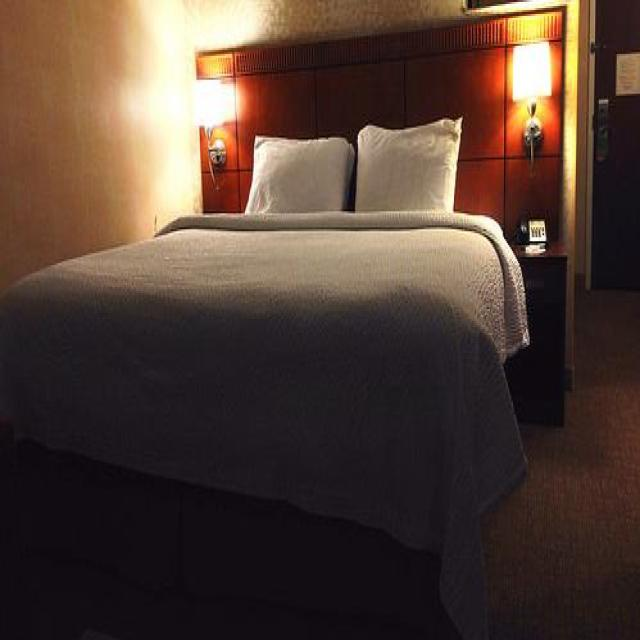bed: (0, 117, 533, 631)
